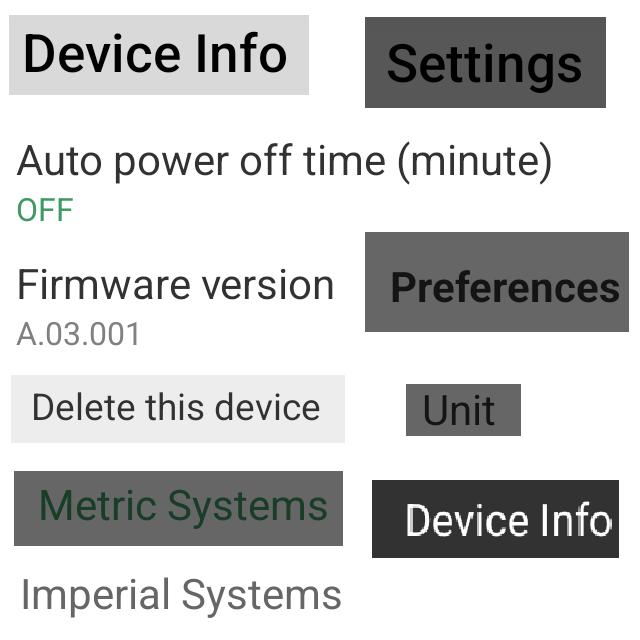0: (92, 320, 105, 343)
2: (65, 322, 80, 346)
A: (16, 144, 42, 176)
D: (22, 31, 52, 77), (402, 503, 430, 538), (30, 391, 54, 424)
F: (17, 267, 40, 301)
I: (16, 572, 31, 614)
M: (38, 484, 76, 526)
O: (14, 195, 38, 221)
P: (389, 267, 416, 309)
S: (387, 41, 416, 85)
T: (42, 270, 48, 300)
U: (419, 391, 451, 428)
